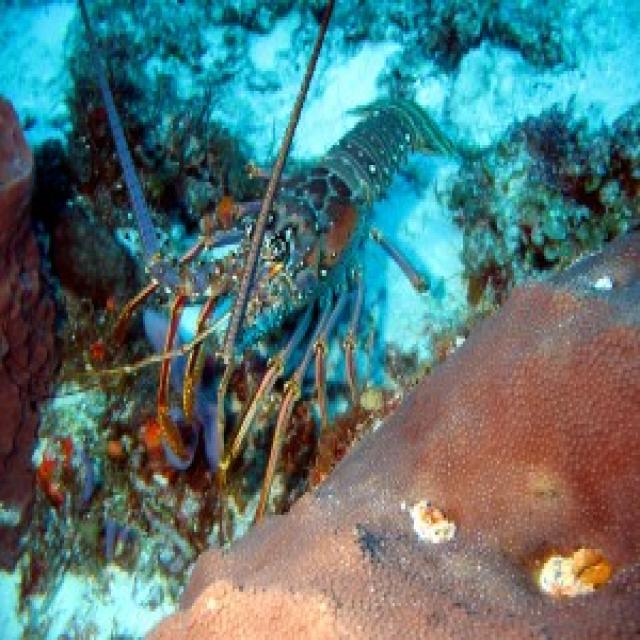lobsters: (47, 39, 493, 519)
